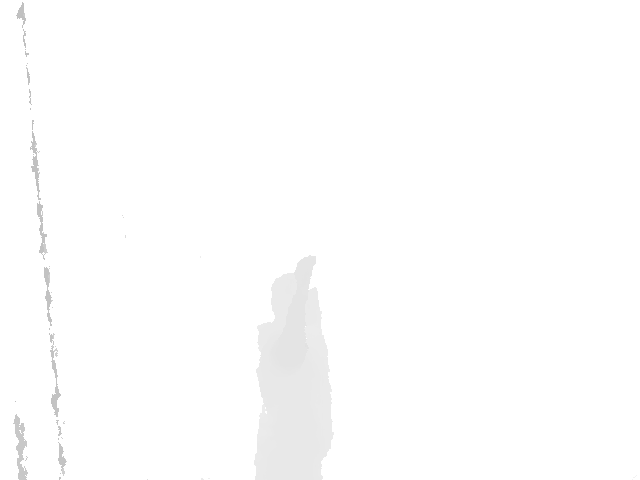hand: (294, 255, 316, 294)
head: (270, 272, 312, 320)
person: (253, 255, 335, 480)
